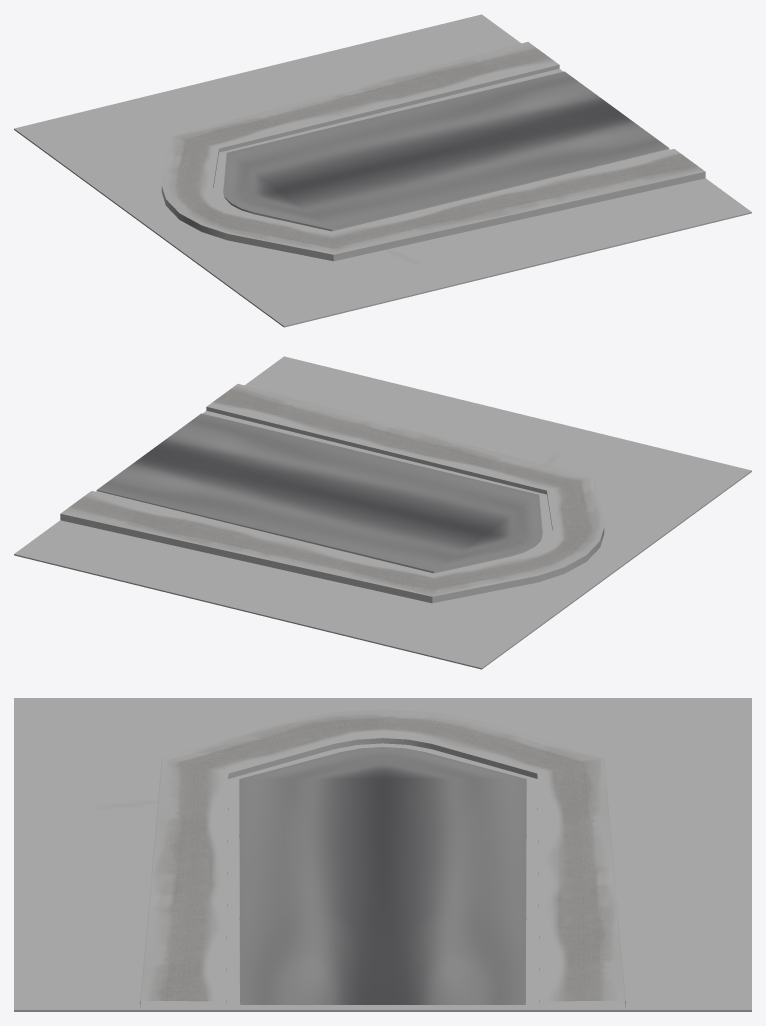
Rendered from Curved_DeadEnd2.fbx.
3 renders of one model, top to bottom at view 1: azimuth 30°, elevation 25°; view 2: azimuth 150°, elevation 25°; view 3: azimuth 270°, elevation 25°, orthographic. The views are drawn at different scales.
Parts seen in each view (by area): view 1: Road_10X32, Road_10X66; view 2: Road_10X32, Road_10X66; view 3: Road_10X32, Road_10X66.
Part boxes in pixels (x1,y1,x2,y2): Road_10X32: (161,42,705,261); Road_10X66: (14,14,751,327); Road_10X32: (60,384,604,603); Road_10X66: (14,356,751,669); Road_10X32: (140,709,625,1007); Road_10X66: (14,698,751,1011).
Bounding box in the file's own units: 1000 × 16.16 × 1000.
